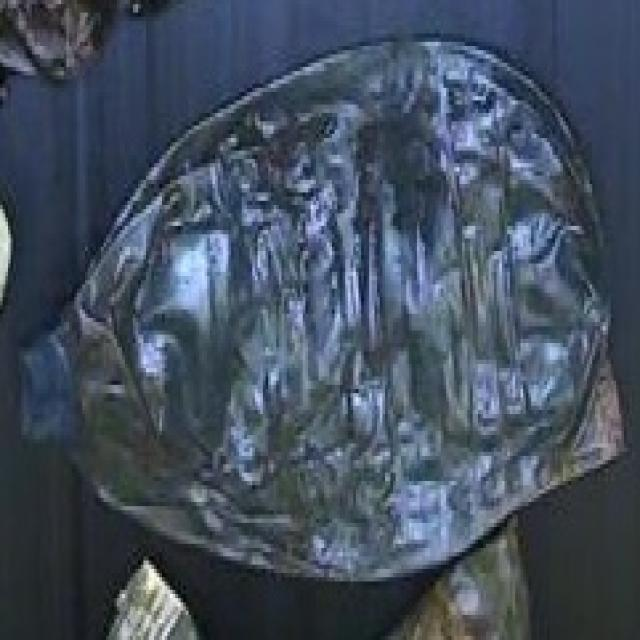litter: (13, 316, 72, 454)
